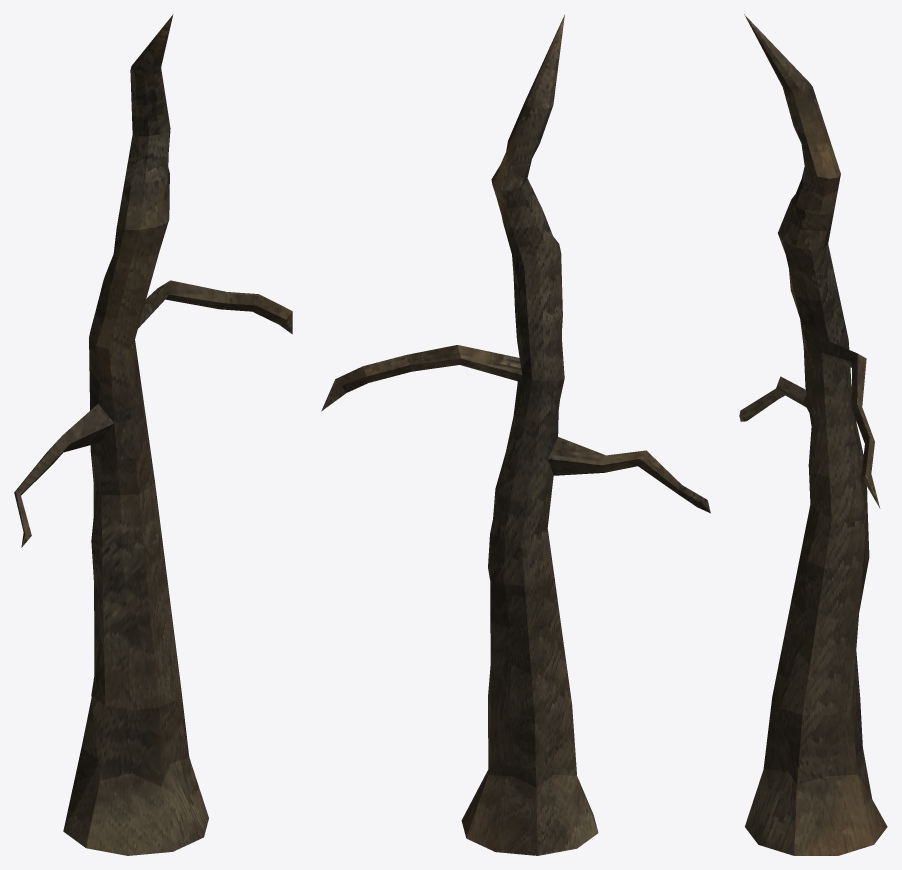
File: deadtree1.glb
3 views of the same model, side by side, from view 1: azimuth 30°, elevation 25°; view 2: azimuth 150°, elevation 25°; view 3: azimuth 270°, elevation 25° (orthographic). The views are drawn at different scales.
Visible parts, largest first — view 1: Cylinder; view 2: Cylinder; view 3: Cylinder.
Boxes of the visible parts, x1=… form: Cylinder: x1=14, y1=14, x2=292, y2=855; Cylinder: x1=321, y1=14, x2=710, y2=855; Cylinder: x1=739, y1=14, x2=887, y2=855.
Bounding box in the file's own units: 3.83 × 8.93 × 1.48.
Materials: 1 (1 with a texture image).
